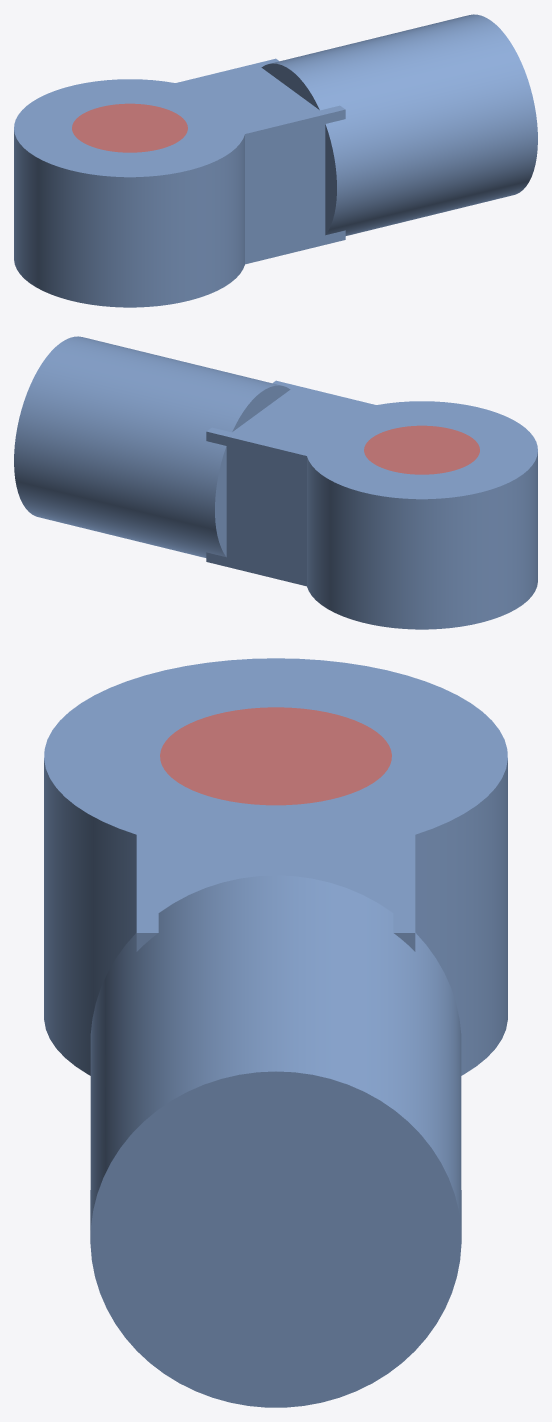
File: step_02.glb
The picture shows the model from 3 angles, top to bottom: view 1: azimuth 30°, elevation 25°; view 2: azimuth 150°, elevation 25°; view 3: azimuth 270°, elevation 25°; orthographic projection. The views are drawn at different scales.
Parts seen in each view (by area): view 1: part__eye end, removed__eye end; view 2: part__eye end, removed__eye end; view 3: part__eye end, removed__eye end.
Part boxes in pixels (x1,y1,x2,y2): part__eye end: (14,14,537,307); removed__eye end: (72,103,187,152); part__eye end: (14,336,537,629); removed__eye end: (364,425,479,474); part__eye end: (44,658,507,1407); removed__eye end: (160,707,391,805).
Size of the model in its own units: 115 by 40 by 49.98.
